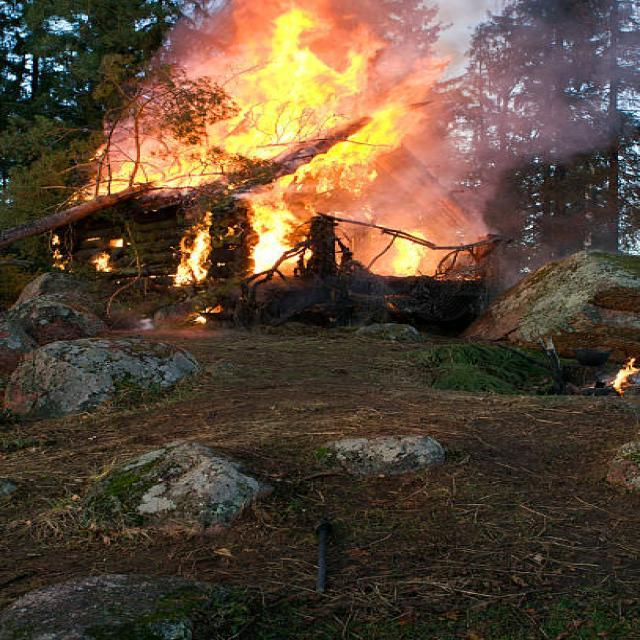Fire: (76, 8, 412, 188), (252, 196, 296, 280), (177, 208, 213, 282), (384, 227, 434, 274)
